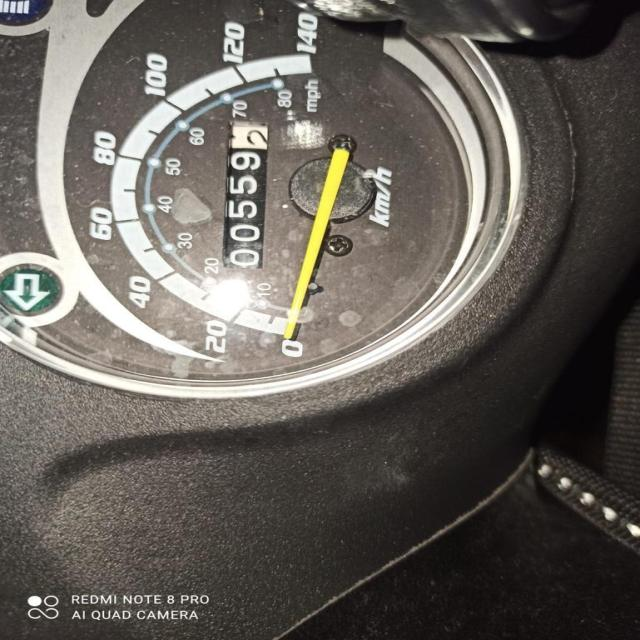odometer: (217, 117, 277, 266)
